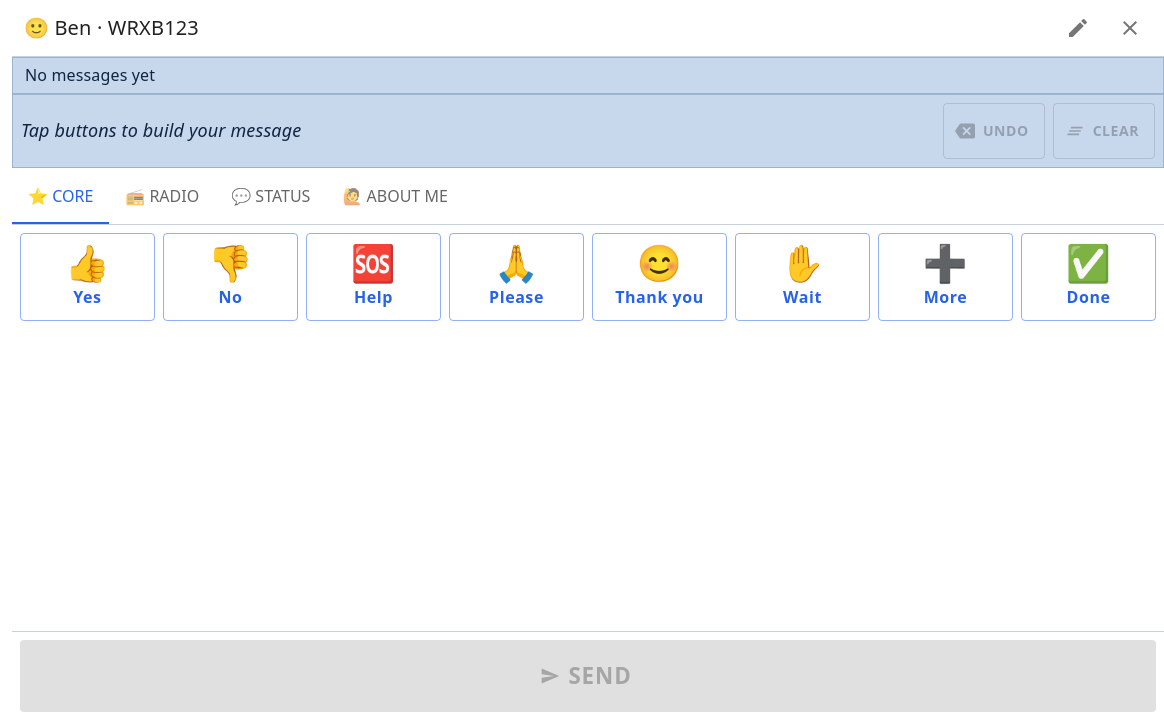
Test case: AACApp › tapping buttons appends to the sentence strip
What coordinates should you click on to do the following:
click the button "👍 Yes"
I would click on:
 (88, 277)
Its box is [20,233,155,321].
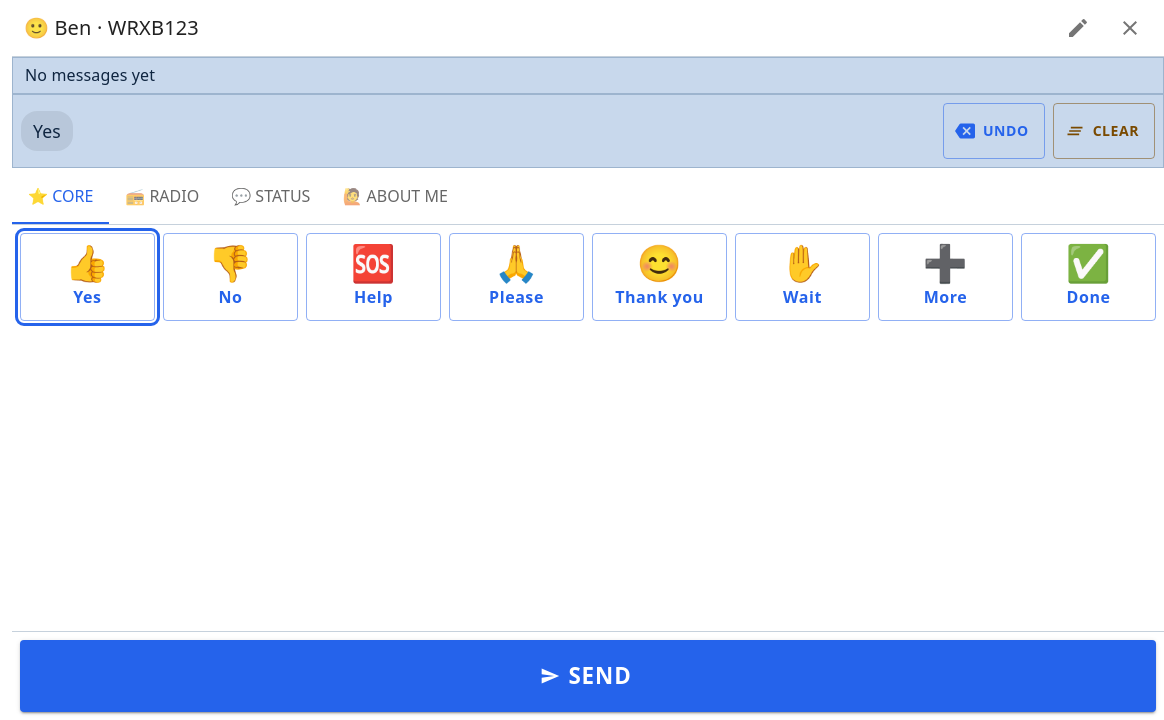
What coordinates should you click on to do the following:
click the button "😊 Thank you"
I would click on:
 (660, 277)
Its box is [592,233,727,321].
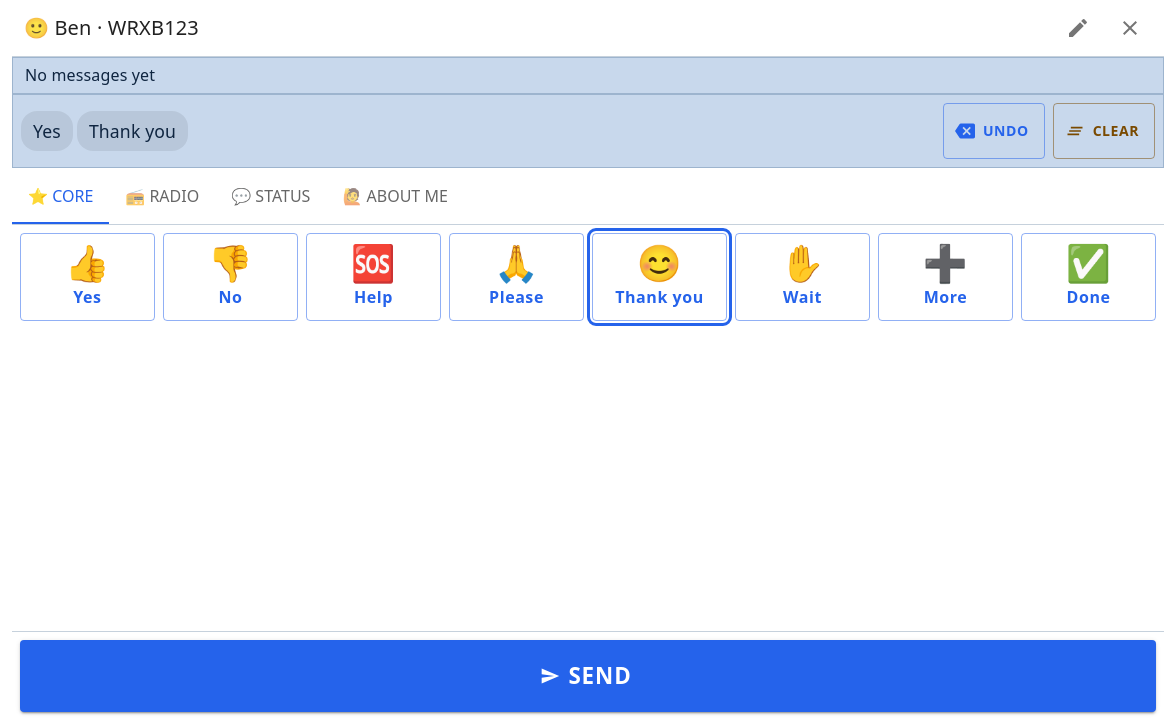
Expected: the 1st text "Yes" is shown, [33,119,61,143]
Expected: the 1st text "Thank you" is shown, [89,119,176,143]
